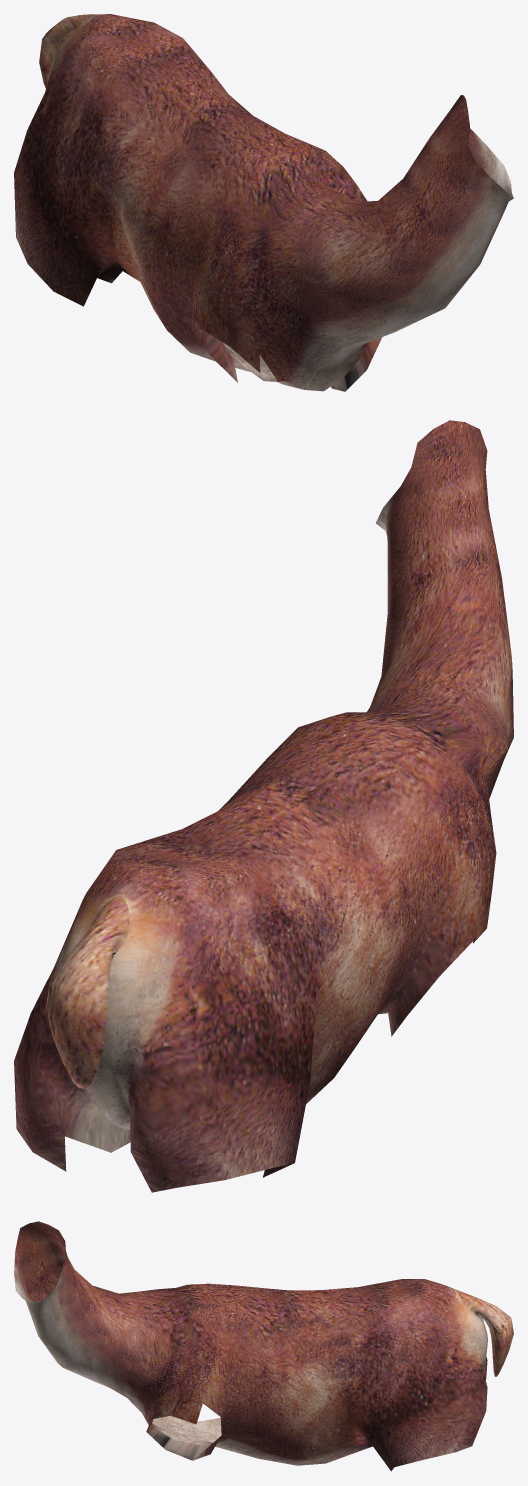
Rendered from Ciervo_cuerpo.obj.
The picture shows the model from 3 angles, top to bottom: view 1: azimuth 30°, elevation 25°; view 2: azimuth 150°, elevation 25°; view 3: azimuth 270°, elevation 25°; orthographic projection. The views are drawn at different scales.
Visible parts, largest first — view 1: Body_body; view 2: Body_body; view 3: Body_body.
Part boxes in pixels (bbox=[...]): Body_body: bbox=[14, 14, 513, 391]; Body_body: bbox=[14, 420, 513, 1192]; Body_body: bbox=[14, 1221, 513, 1471].
Bounding box in the file's own units: 1.56 × 2.93 × 5.13.
